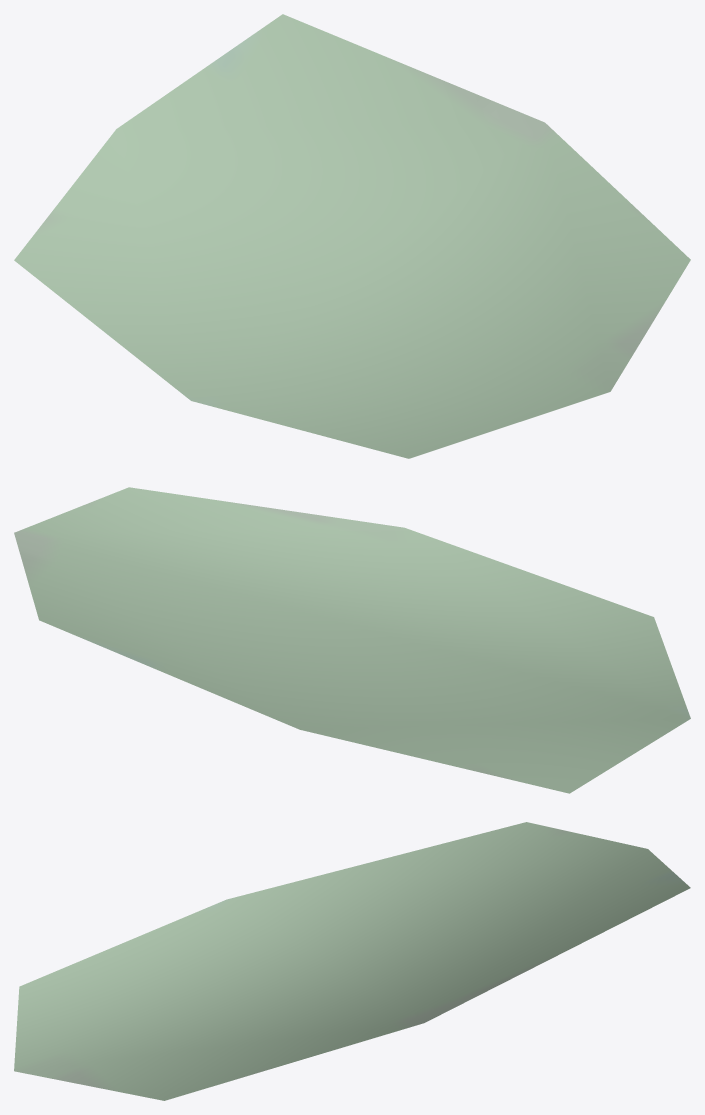
Rendered from TROLLHOLE02_HOLECAP39.fbx.
The picture shows the model from 3 angles, top to bottom: view 1: azimuth 30°, elevation 25°; view 2: azimuth 150°, elevation 25°; view 3: azimuth 270°, elevation 25°; orthographic projection. The views are drawn at different scales.
Visible parts, largest first — view 1: TROLLHOLE02_HOLECAP39; view 2: TROLLHOLE02_HOLECAP39; view 3: TROLLHOLE02_HOLECAP39.
Boxes of the visible parts, box(x1,y1,x2,y2) form: TROLLHOLE02_HOLECAP39: box(14, 14, 690, 458); TROLLHOLE02_HOLECAP39: box(14, 487, 690, 793); TROLLHOLE02_HOLECAP39: box(14, 822, 690, 1100).
Size of the model in its own units: 27454 by 9083 by 28590.
Materials: 1 (1 with a texture image).
